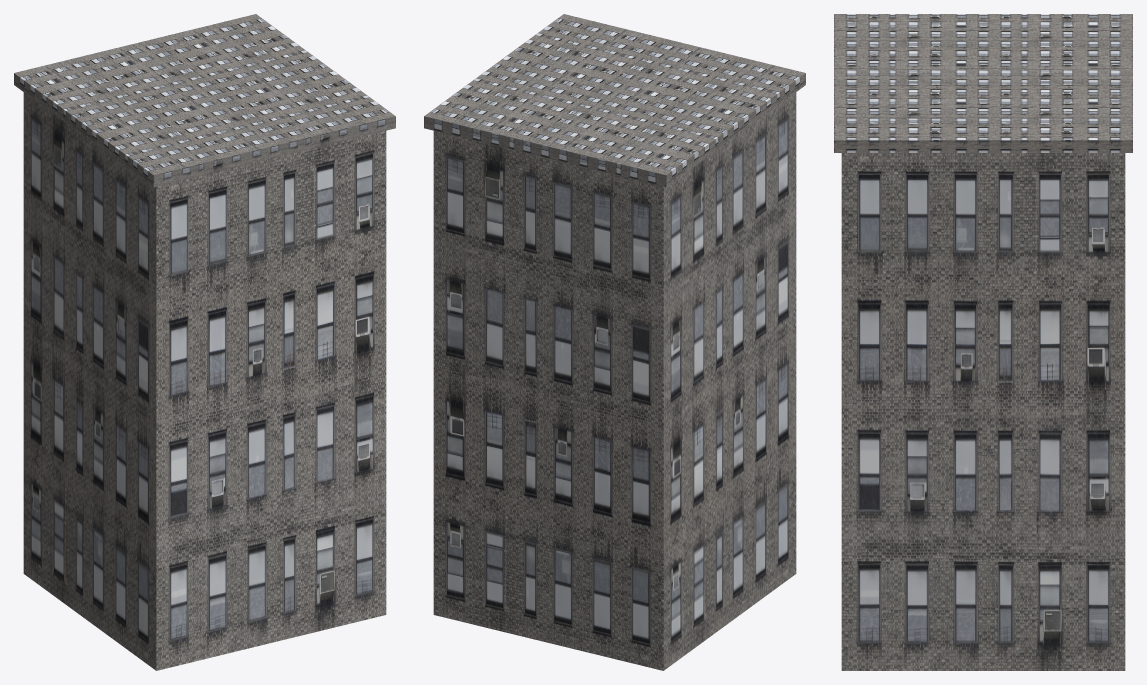
File: bina 5.fbx
3 renders of one model, left to right at view 1: azimuth 30°, elevation 25°; view 2: azimuth 150°, elevation 25°; view 3: azimuth 270°, elevation 25°, orthographic. The views are drawn at different scales.
Visible parts, largest first — view 1: Cube; view 2: Cube; view 3: Cube.
Part boxes in pixels (left/top/right/bottom): Cube: left=14, top=14, right=395, bottom=670; Cube: left=424, top=14, right=805, bottom=670; Cube: left=834, top=14, right=1132, bottom=670.
Size of the model in its own units: 211 by 416 by 211.
1 material, 1 textured.
